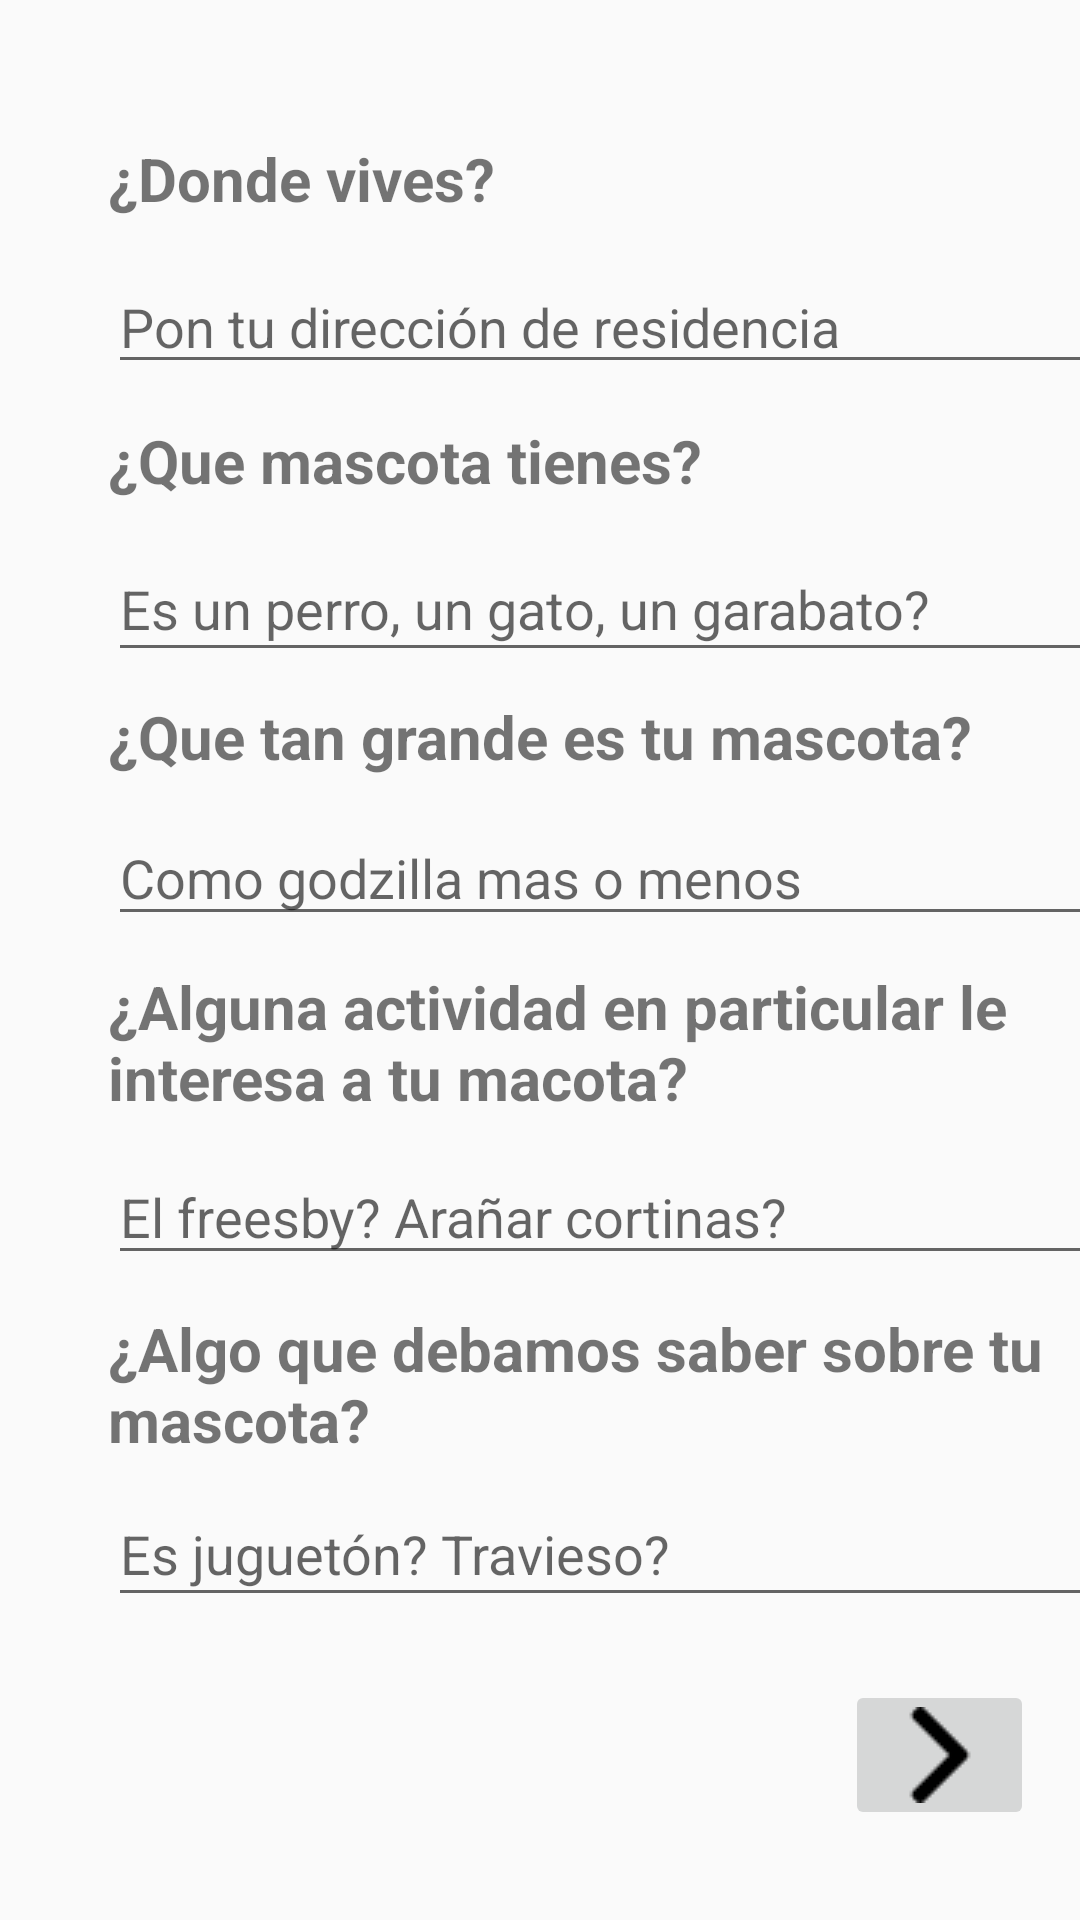

Named icons in this screenshot (1080×1920) and their bounding boxes, (x1, y1, x2, y2):
flecha: (857, 1698, 1022, 1812)
